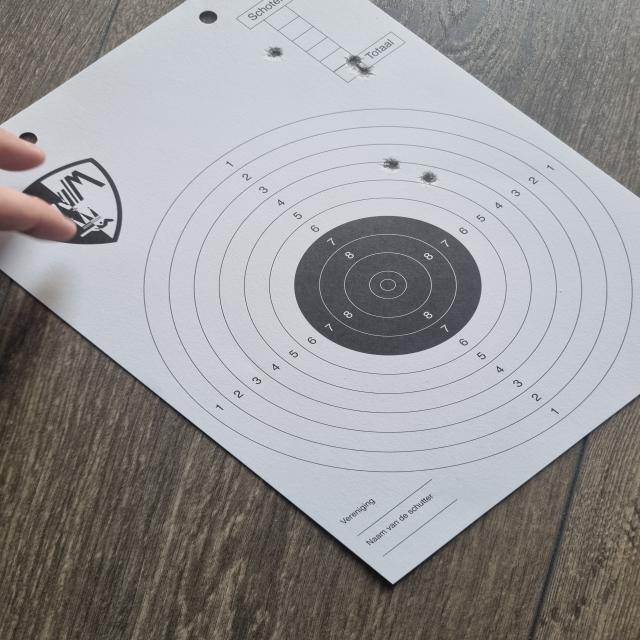0: (263, 46, 284, 61), (344, 54, 364, 68), (356, 65, 376, 78)
4: (416, 171, 441, 184), (380, 158, 400, 171)
Target: (146, 107, 636, 475)
black_contour: (294, 216, 482, 358)
